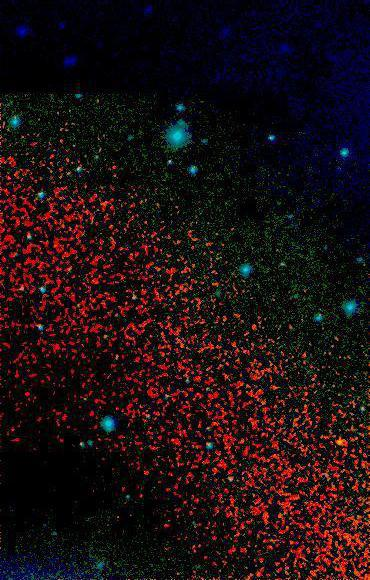star: (325, 426, 355, 456)
